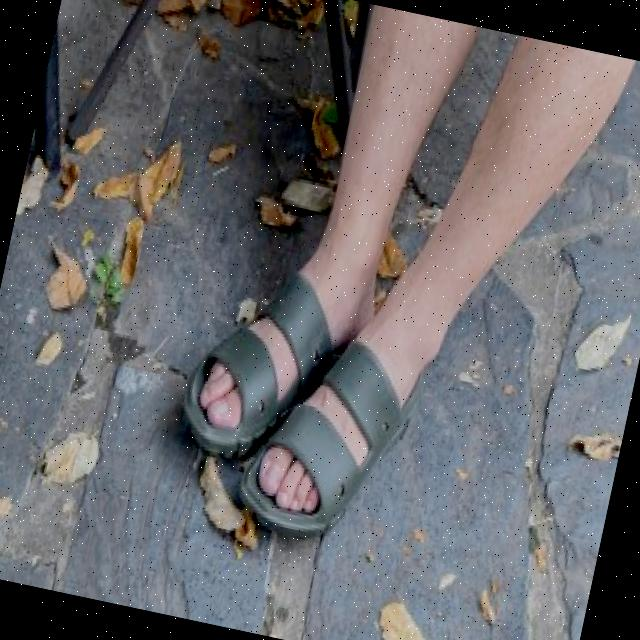no-boots: (225, 328, 465, 590), (156, 220, 348, 478)
